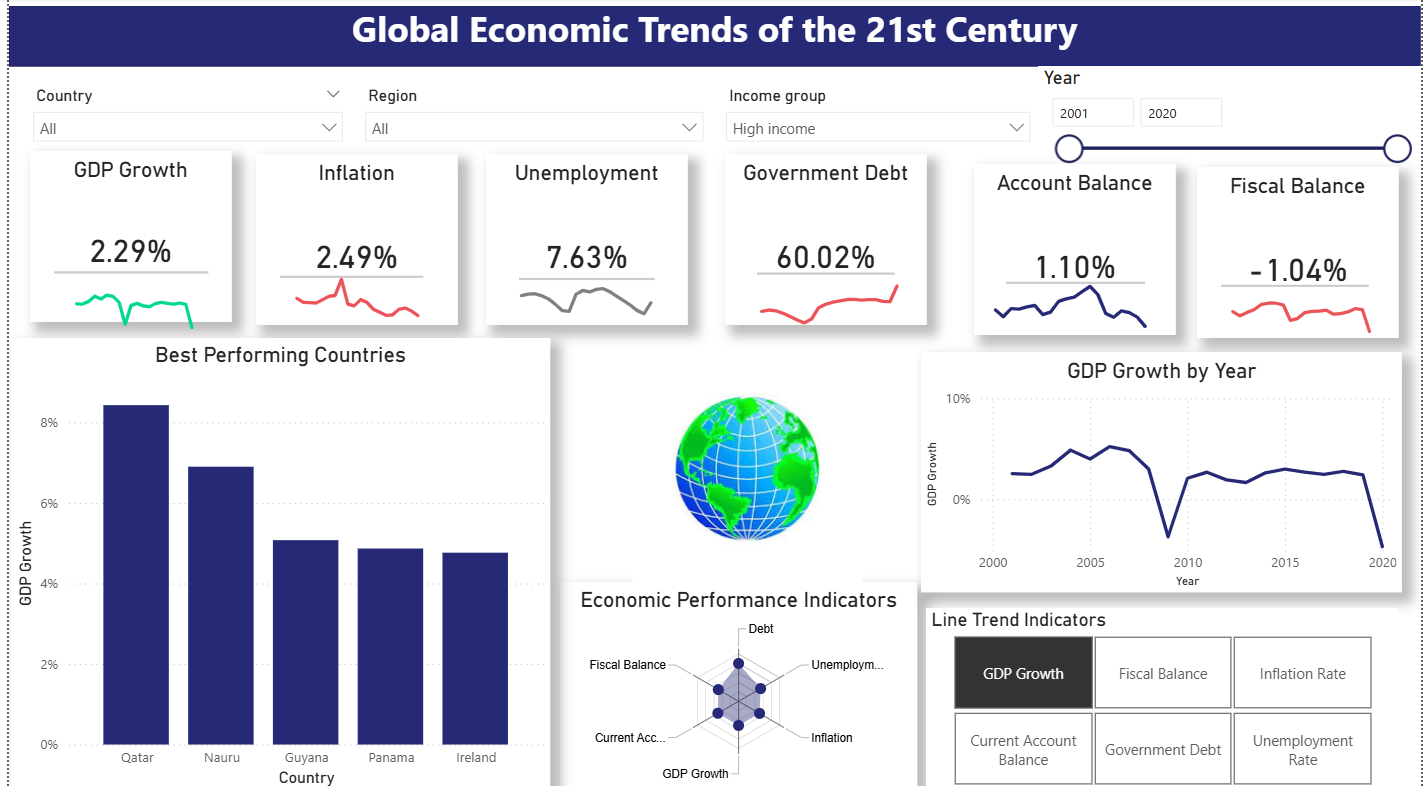

Layout of this report page (visuals, bound fields, positions):
{"tool":"powerbi","page":{"name":"Page 1","canvas":[1280,720],"ordinal":0},"visuals":[{"type":"shape","box":[0,6.9,1280.3,54.9],"z":0},{"type":"textbox","box":[0,0,1280,61.3],"z":1000},{"type":"slicer","title":"Country Slicer","fields":{"Values":["Countries.Country"]},"box":[11.9,74.9,301.3,66.4],"z":2000},{"type":"slicer","title":"Region Slicer","fields":{"Values":["Countries.Region"]},"box":[313.2,74.9,326.8,66.4],"z":3000},{"type":"slicer","title":"Income group Slicer","fields":{"Values":["Countries.Income group"]},"box":[640,74.9,296.2,69.8],"z":4000},{"type":"slicer","title":"Year","fields":{"Values":["Economic Data.Year"]},"box":[932.8,61.3,347.2,93.6],"z":5000},{"type":"card","title":"GDP Growth","fields":{"Values":["Economic Data.GDPGrowth_Latest"]},"box":[19.2,138.6,182.5,155.1],"z":6000},{"type":"card","title":"Inflation","fields":{"Values":["Economic Data.Inflation"]},"box":[223.7,141.3,182.5,155.1],"z":7000},{"type":"card","title":"Unemployment","fields":{"Values":["Economic Data.Unemployment_rate"]},"box":[432.2,141.3,182.5,155.1],"z":8000},{"type":"card","title":"Government Debt","fields":{"Values":["Economic Data.GovtDebt"]},"box":[649.1,141.3,182.5,155.1],"z":9000},{"type":"card","title":"Account Balance","fields":{"Values":["Economic Data.CABal_pct"]},"box":[875.5,150.9,182.5,155.1],"z":10000},{"type":"card","title":"Fiscal Balance","fields":{"Values":["Economic Data.FiscalBal_pct"]},"box":[1077.2,153.7,182.5,155.1],"z":11000},{"type":"shape","box":[41.2,236,140,26.1],"z":12000},{"type":"lineChart","fields":{"Y":["Economic Data.GDPGrowth_PerYear"],"Category":["Economic Data.Year"]},"box":[41.2,241.5,140,64.5],"z":13000},{"type":"lineChart","fields":{"Y":["Economic Data.Inflation_PerYear"],"Category":["Economic Data.Year"]},"box":[240.1,231.9,145.5,65.9],"z":14000},{"type":"shape","box":[245.6,244.3,130.4,17.8],"z":15000},{"type":"lineChart","fields":{"Y":["Economic Data.Unemployment_PerYear"],"Category":["Economic Data.Year"]},"box":[443.2,242.9,153.7,60.4],"z":16000},{"type":"shape","box":[462.4,231.9,123.5,45.3],"z":17000},{"type":"lineChart","fields":{"Y":["Economic Data.GovtDebt_PerYear"],"Category":["Economic Data.Year"]},"box":[661.4,244.3,159.2,63.1],"z":18000},{"type":"lineChart","fields":{"Y":["Economic Data.CABal_PerYear"],"Category":["Economic Data.Year"]},"box":[872.7,247,172.9,61.7],"z":19000},{"type":"lineChart","fields":{"Category":["Economic Data.Year"],"Y":["Economic Data.FiscalBal_PerYear"]},"box":[1088.2,253.9,160.5,61.7],"z":20000},{"type":"shape","box":[677.9,240.1,124.9,19.2],"z":21000},{"type":"shape","box":[904.3,249.7,126.2,17.8],"z":22000},{"type":"shape","box":[1099.1,252.5,134.5,17.8],"z":23000},{"type":"RadarChart1446119667547","title":"Economic Performance Indicators","fields":{"Category":["RadarTable.Indicator"],"Y":["RadarTable.Indicator Value"]},"box":[499.5,529.7,323.8,189.4],"z":24000},{"type":"lineChart","fields":{"Y":["Economic Data.GDPGrowth"],"Category":["Economic Data.Year"]},"box":[827.4,321.1,436.4,218.2],"z":25000},{"type":"slicer","title":"Line Trend Indicators","fields":{"Values":["Line Indicators.Line Indicators"]},"box":[831.6,553,428.1,167.4],"z":26000},{"type":"clusteredColumnChart","title":"Best Performing Countries","fields":{"Category":["Economic Data.Country"],"Y":["Economic Data.GDPGrowth"]},"box":[1.4,308.7,488.5,411.7],"z":27000},{"type":"image","box":[551.6,321.1,236,208.6],"z":28000}]}

Visuals, with their boxes in screenshot pixels (x1, y1, x2, y2), scaled from the page's 1280x720 canvas onto the 1423x786 screenshot:
shape: [0,8,1422,67]
textbox: [0,0,1422,67]
"Country Slicer" slicer: [13,82,348,154]
"Region Slicer" slicer: [348,82,712,154]
"Income group Slicer" slicer: [712,82,1041,158]
"Year" slicer: [1037,67,1422,169]
"GDP Growth" card: [21,151,224,321]
"Inflation" card: [249,154,452,324]
"Unemployment" card: [480,154,683,324]
"Government Debt" card: [722,154,925,324]
"Account Balance" card: [973,165,1176,334]
"Fiscal Balance" card: [1198,168,1400,337]
shape: [46,258,201,286]
lineChart - Economic Data.GDPGrowth_PerYear x Economic Data.Year: [46,264,201,334]
lineChart - Economic Data.Inflation_PerYear x Economic Data.Year: [267,253,429,325]
shape: [273,267,418,286]
lineChart - Economic Data.Unemployment_PerYear x Economic Data.Year: [493,265,664,331]
shape: [514,253,651,303]
lineChart - Economic Data.GovtDebt_PerYear x Economic Data.Year: [735,267,912,336]
lineChart - Economic Data.CABal_PerYear x Economic Data.Year: [970,270,1162,337]
lineChart - Economic Data.Year x Economic Data.FiscalBal_PerYear: [1210,277,1388,345]
shape: [754,262,892,283]
shape: [1005,273,1146,292]
shape: [1222,276,1371,295]
"Economic Performance Indicators" RadarChart1446119667547: [555,578,915,785]
lineChart - Economic Data.GDPGrowth x Economic Data.Year: [920,351,1405,589]
"Line Trend Indicators" slicer: [925,604,1400,785]
"Best Performing Countries" clusteredColumnChart: [2,337,545,785]
image: [613,351,876,578]
